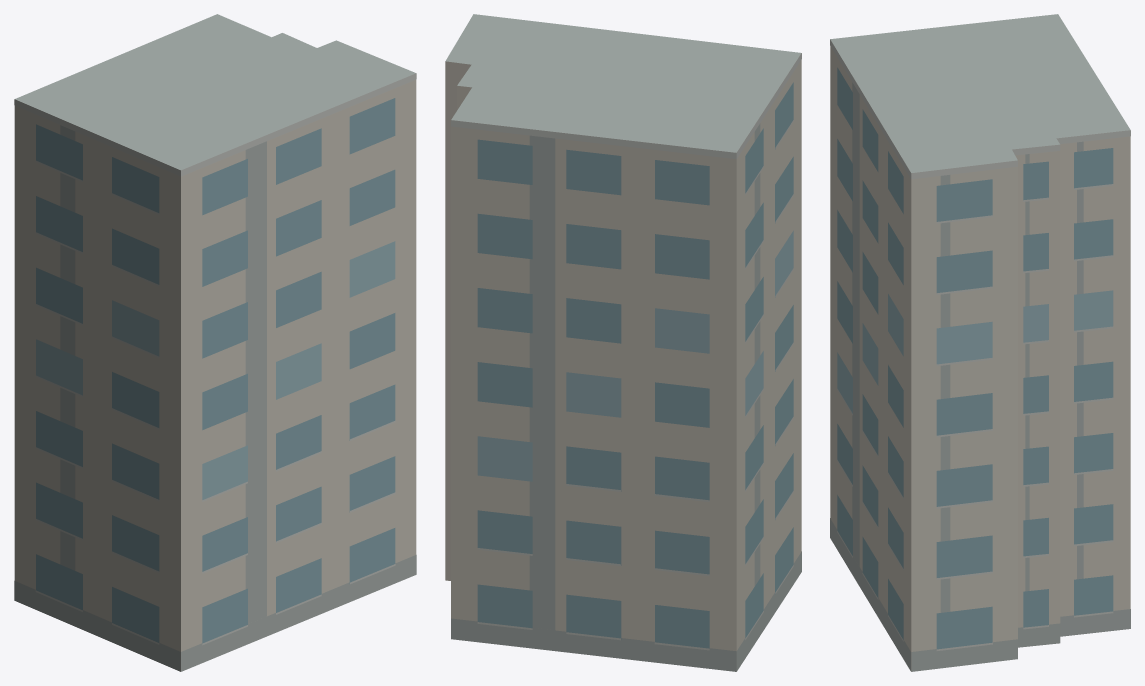
Rendered from survey-upis-32823586.glb.
The picture shows the model from 3 angles, left to right: view 1: azimuth 30°, elevation 25°; view 2: azimuth 150°, elevation 25°; view 3: azimuth 270°, elevation 25°; orthographic projection. The views are drawn at different scales.
Parts seen in each view (by area): view 1: survey-upis-32823586.tmp; view 2: survey-upis-32823586.tmp; view 3: survey-upis-32823586.tmp.
Part boxes in pixels (x1=…): survey-upis-32823586.tmp: x1=14, y1=14, x2=416, y2=671; survey-upis-32823586.tmp: x1=445, y1=14, x2=801, y2=671; survey-upis-32823586.tmp: x1=830, y1=14, x2=1130, y2=671.
Size of the model in its own units: 13.36 by 19.5 by 10.66.
